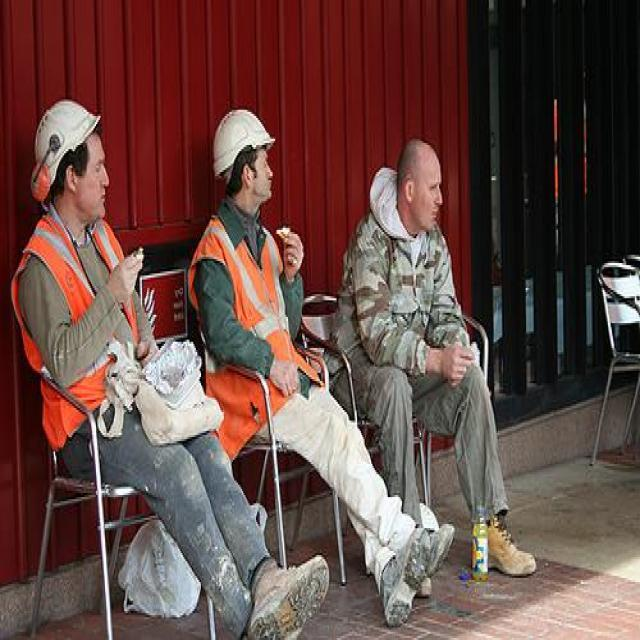reflective_jacket: (5, 211, 148, 457), (181, 209, 294, 403)
safety_helmet: (23, 87, 110, 205), (205, 97, 279, 184)
